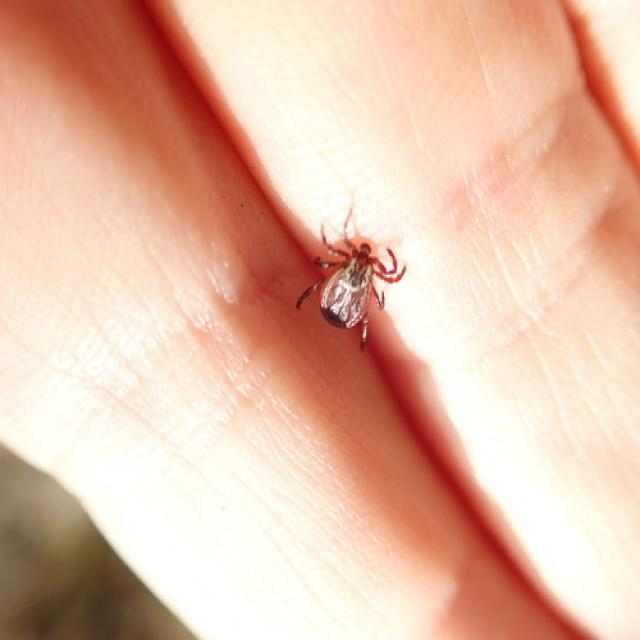Dermacentor Reticulatus-F: (297, 224, 407, 352)
